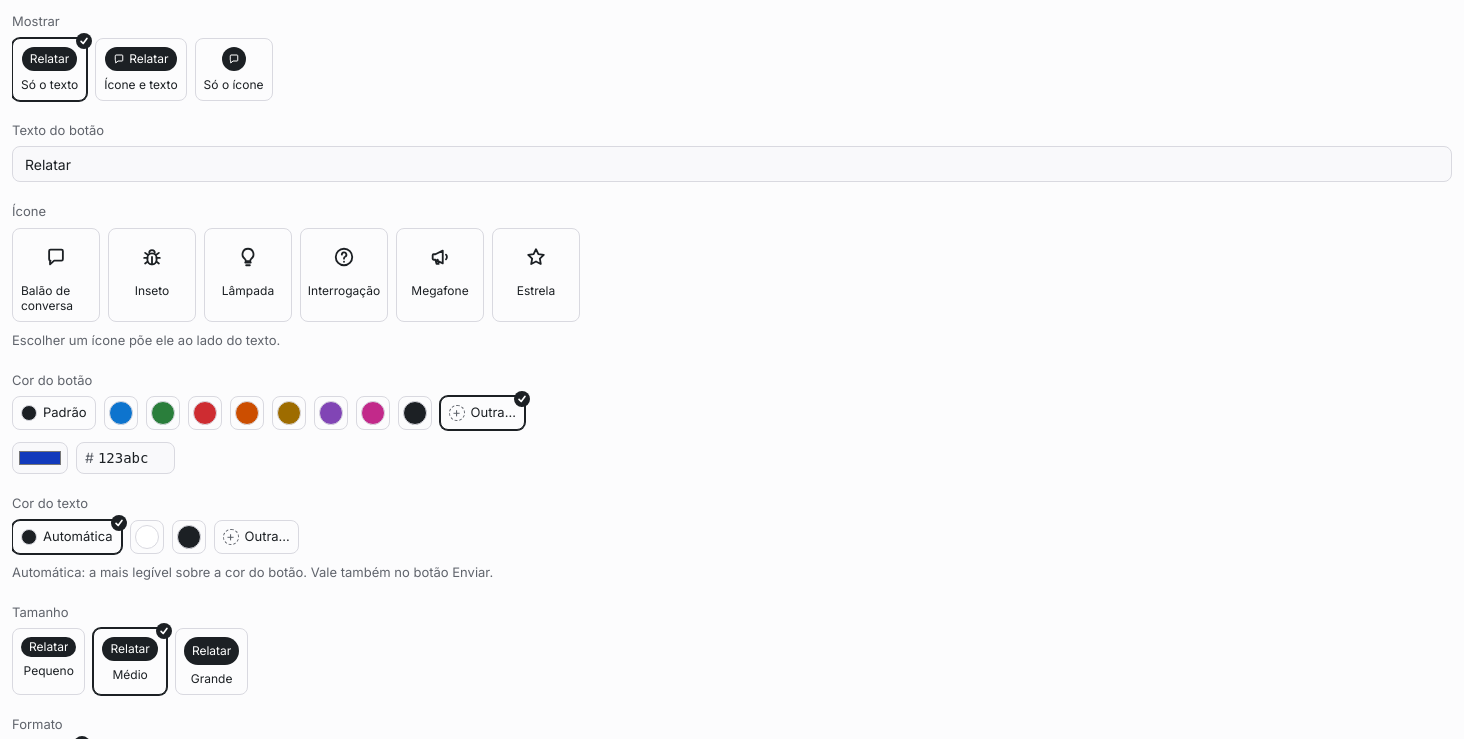
Scenario: AppearanceSection › a cor › o codigo muda a cor com seis digitos, e o errado so e dito ao sair do campo
Replace the text in the field named "Código da cor do botão" with "abc" at [134, 458], box [94,443,174,473]
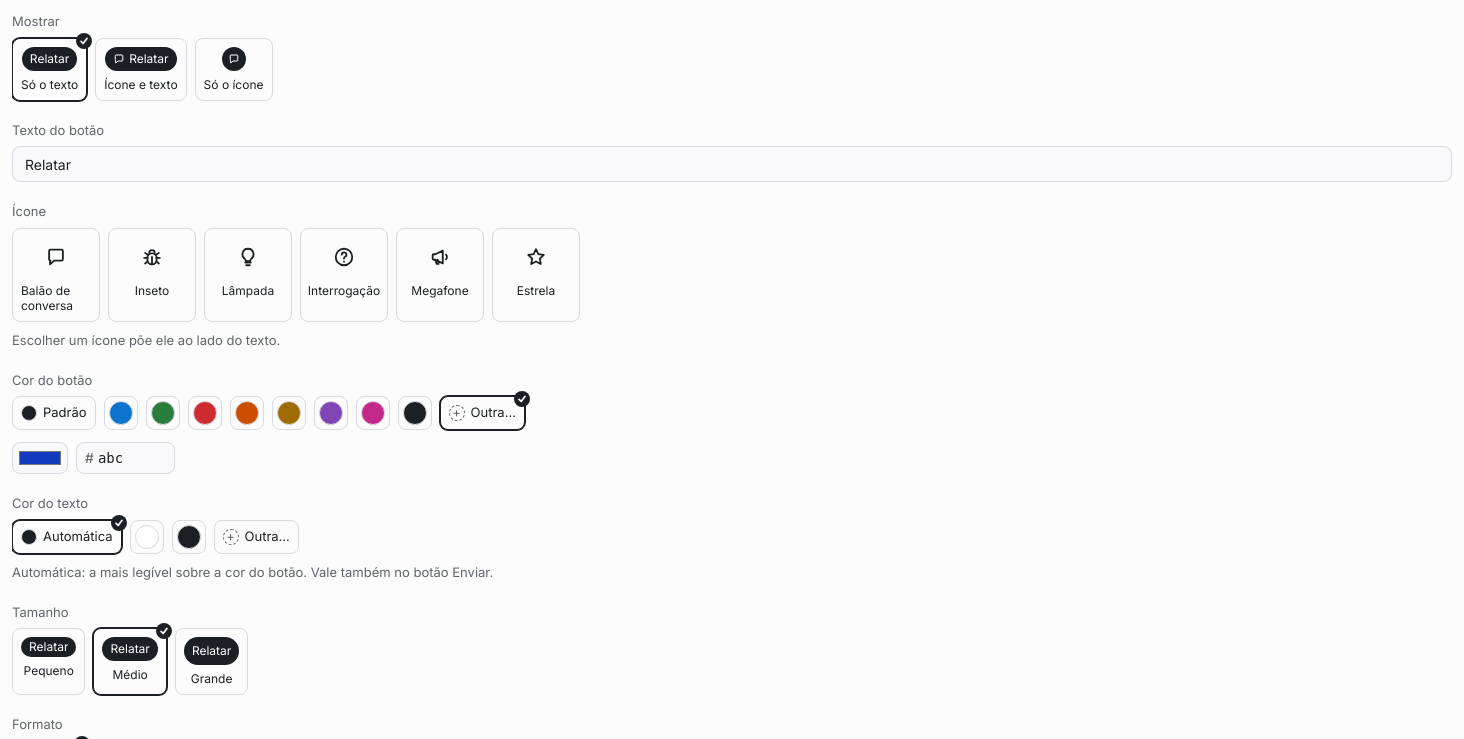
Expected: the text "Use 6 dígitos" is not shown
Replace the text in the field named "Código da cor do botão" with "ff8800" at [134, 458], box [94,443,174,473]
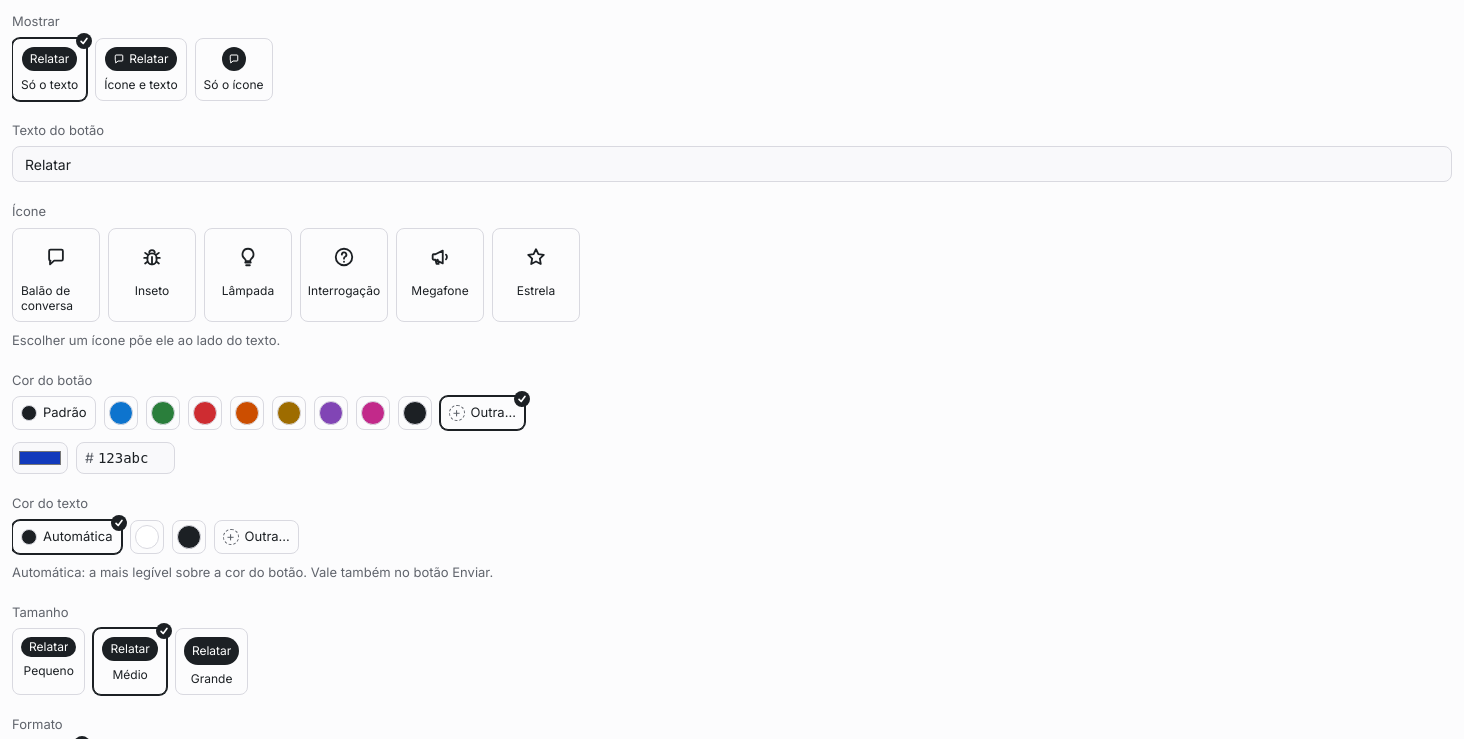
Replace the text in the field named "Código da cor do botão" with "xyz" at [134, 458], box [94,443,174,473]
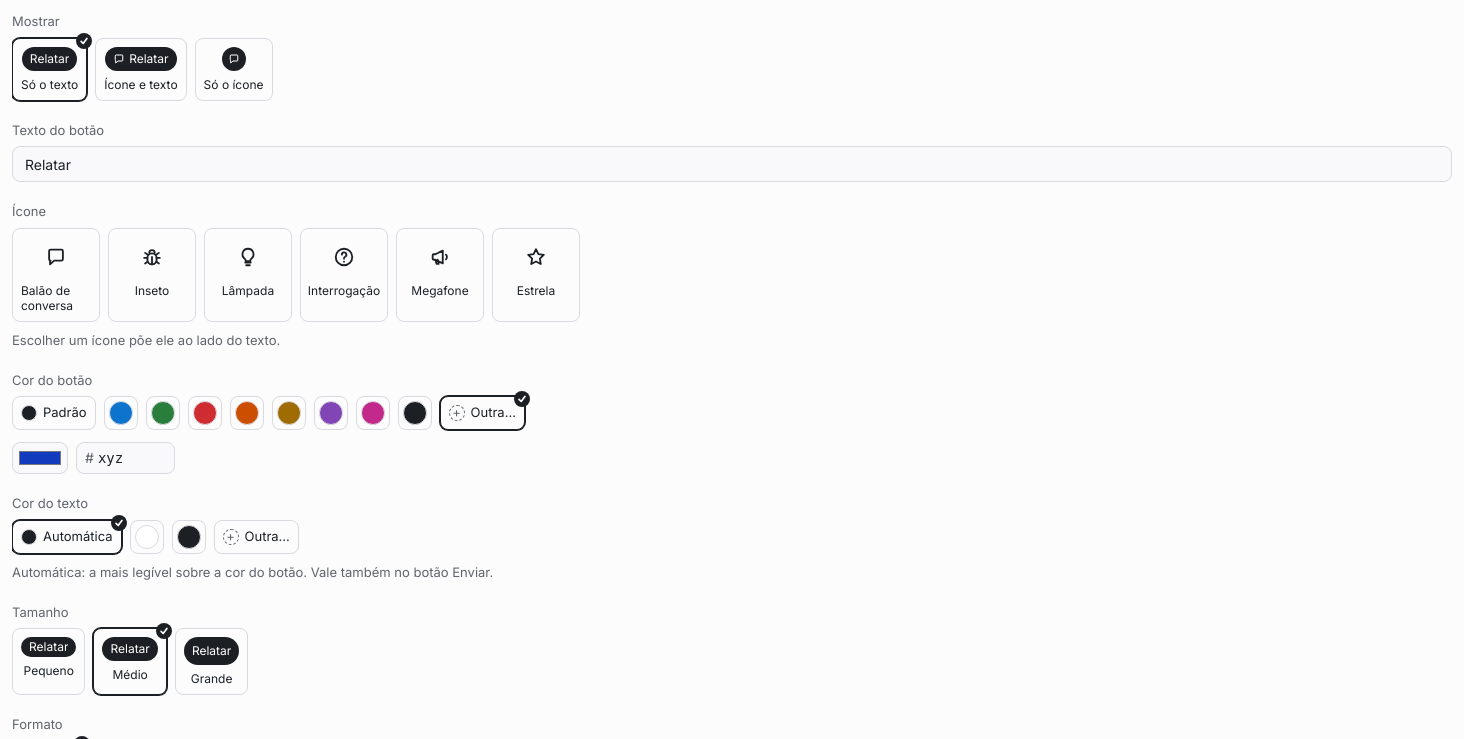
Leave the field named "Código da cor do botão", box [94,443,174,473]
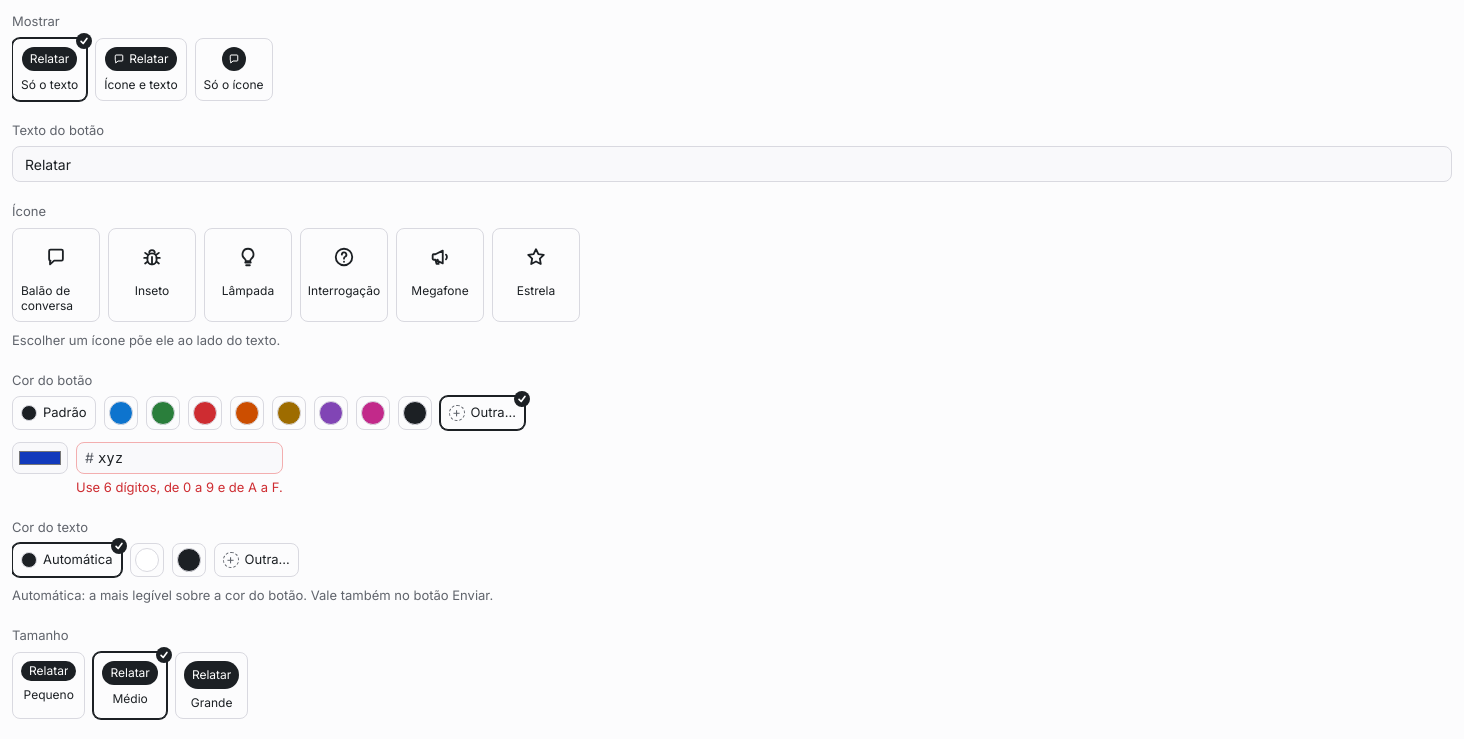
Expected: the text "Use 6 dígitos, de 0 a 9 e de A a F." is shown, [76,478,283,498]
